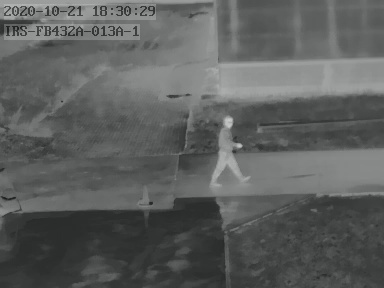person: (212, 116, 244, 182)
